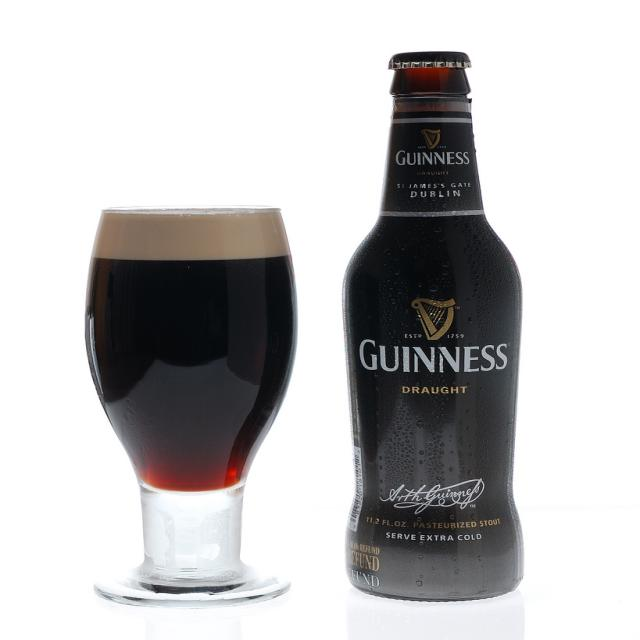guiness: (359, 298, 513, 377), (397, 128, 473, 168)
